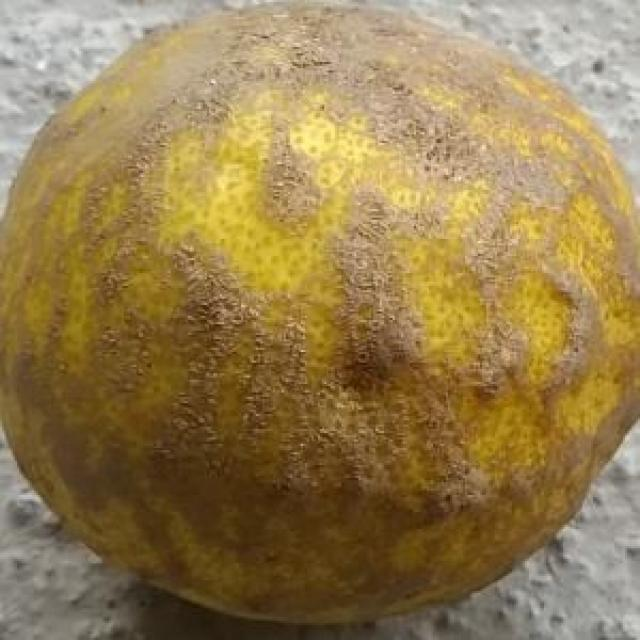lemon: (7, 1, 640, 623)
